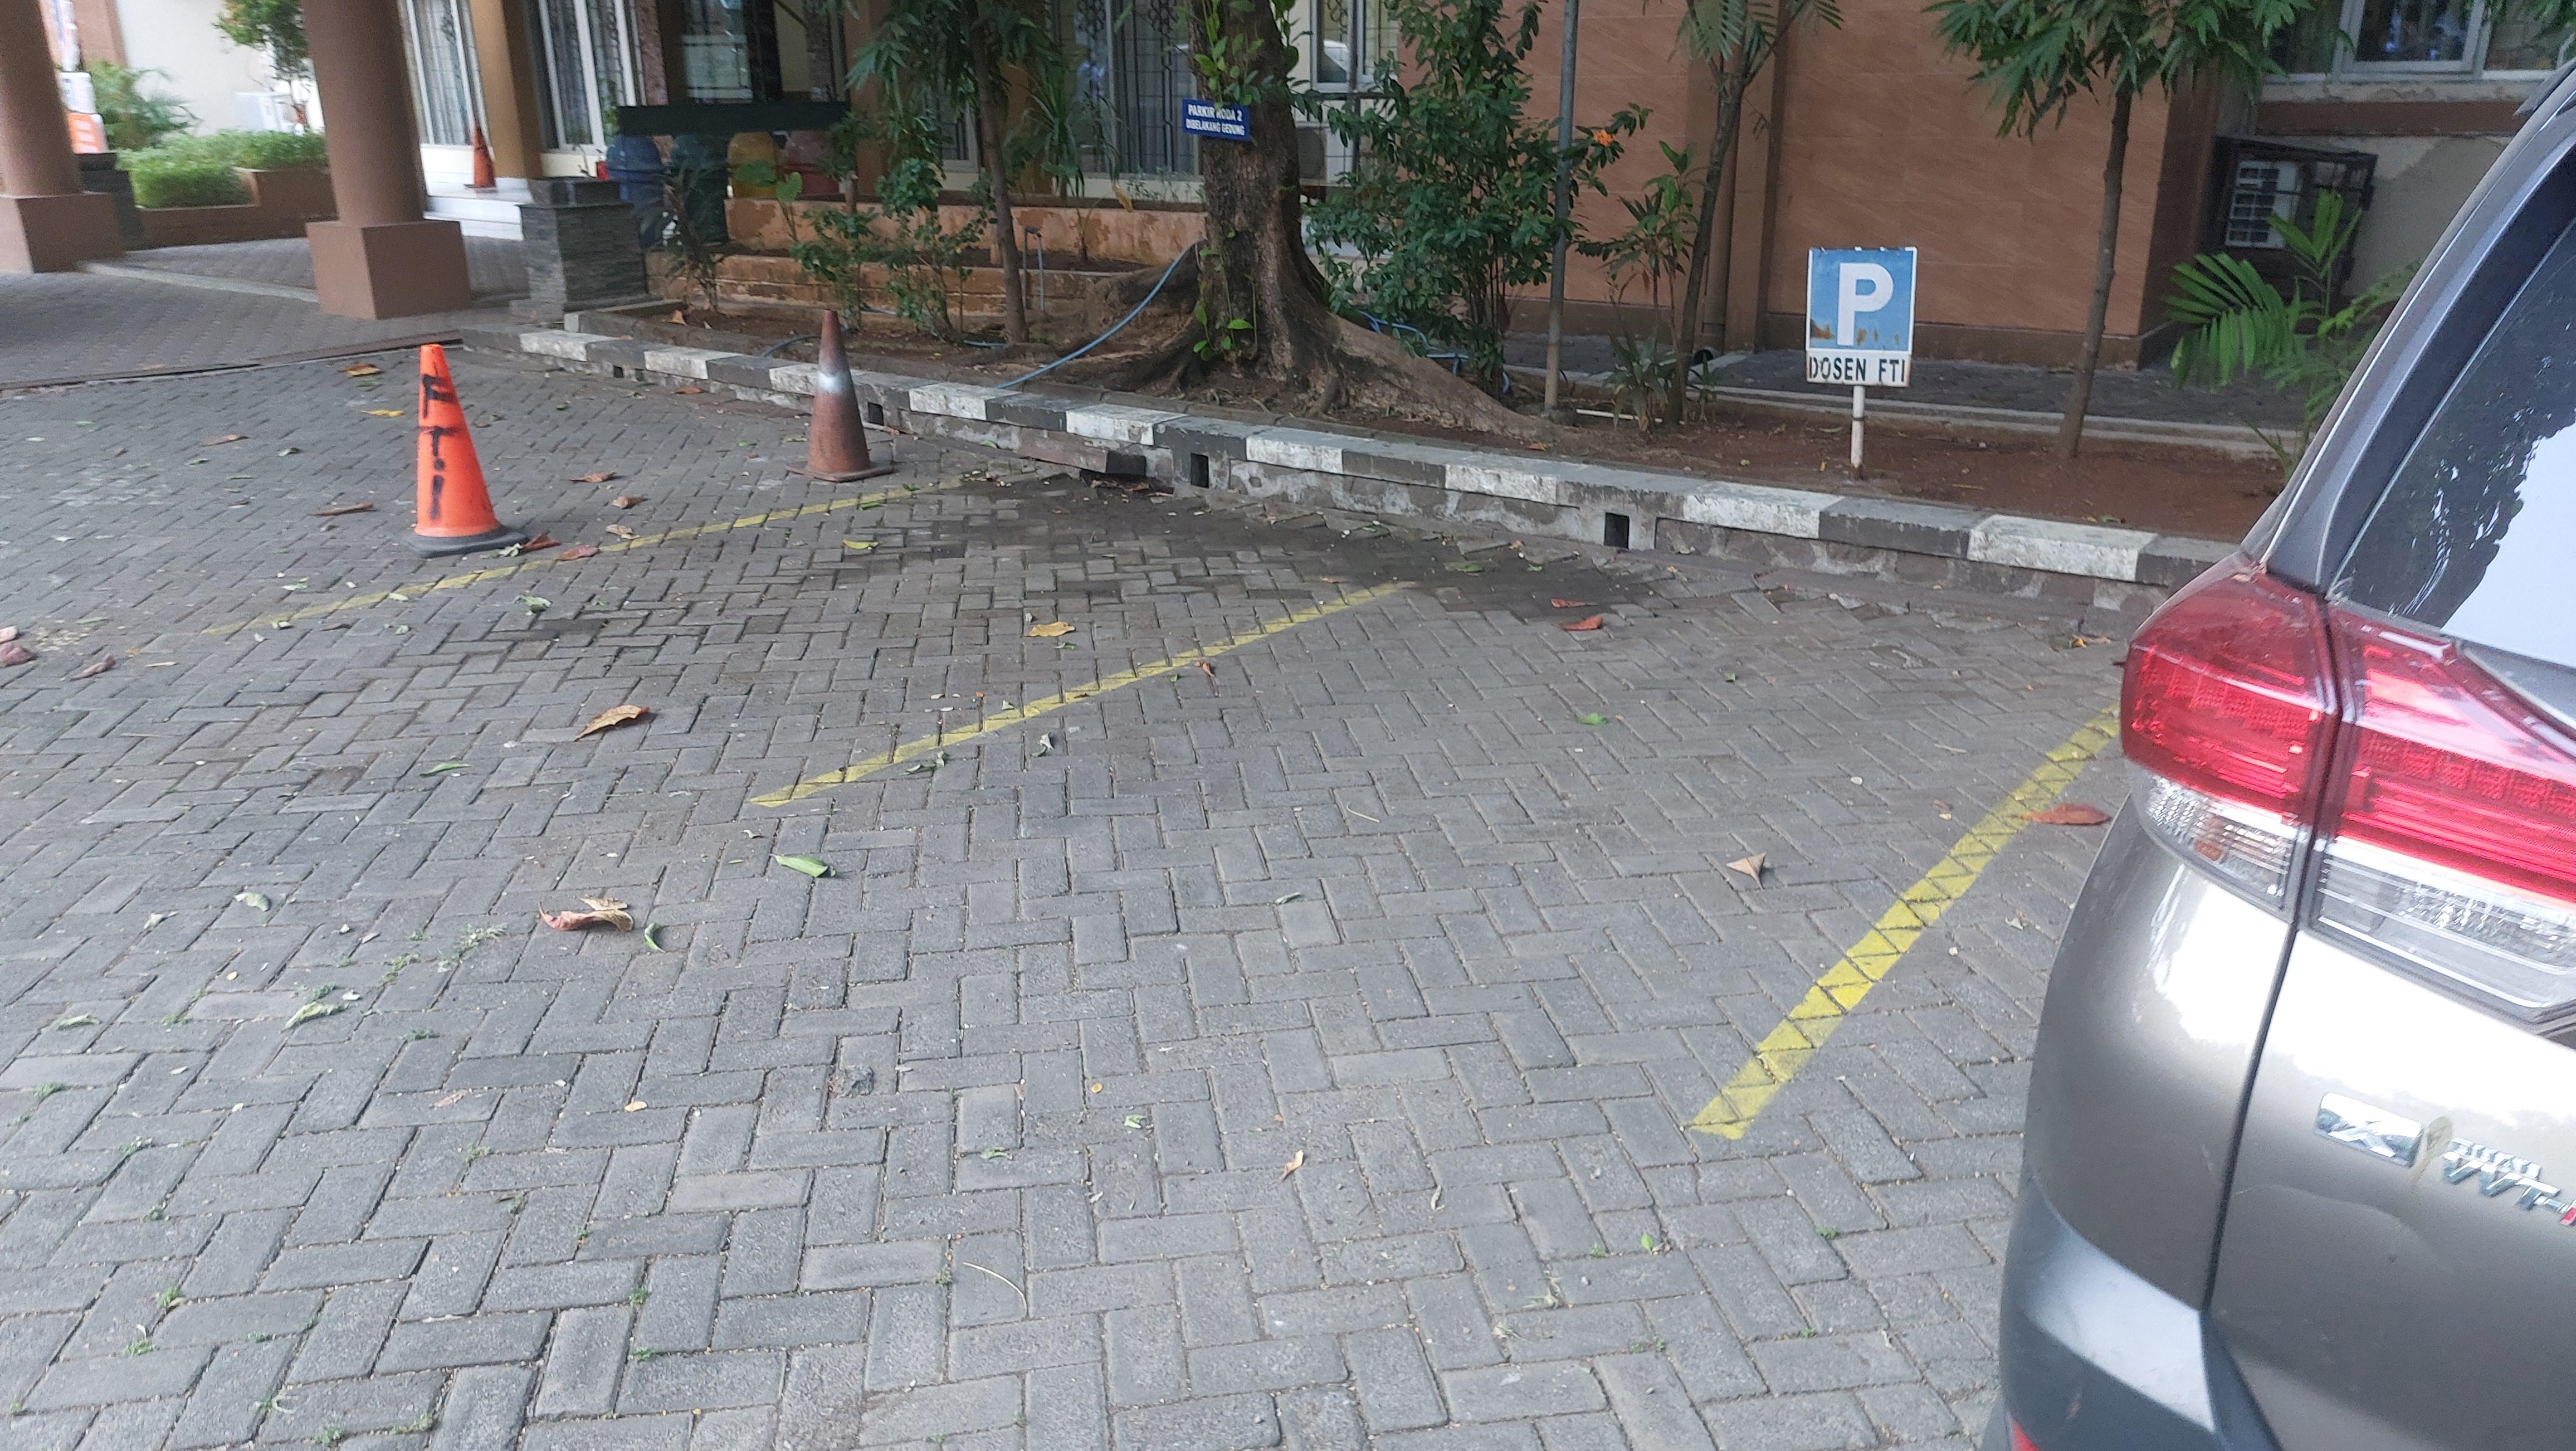empty: (751, 572, 2111, 1122), (264, 473, 1412, 797)
